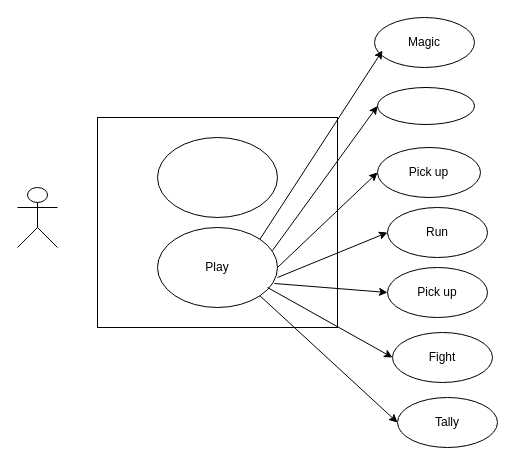
Image size: 515x465. Some labels were removed from this diagram. The shapes that lost their labels are listed below. From the top down, each one's centre as x and y in pixels, then its label:
At point (425, 105): "Move".
At point (217, 177): "Create Game".
At point (37, 217): "Player".
